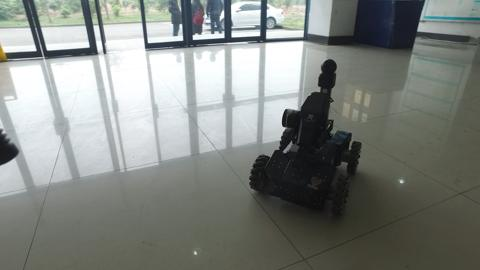car: (201, 1, 286, 31)
chariot: (248, 58, 362, 221)
